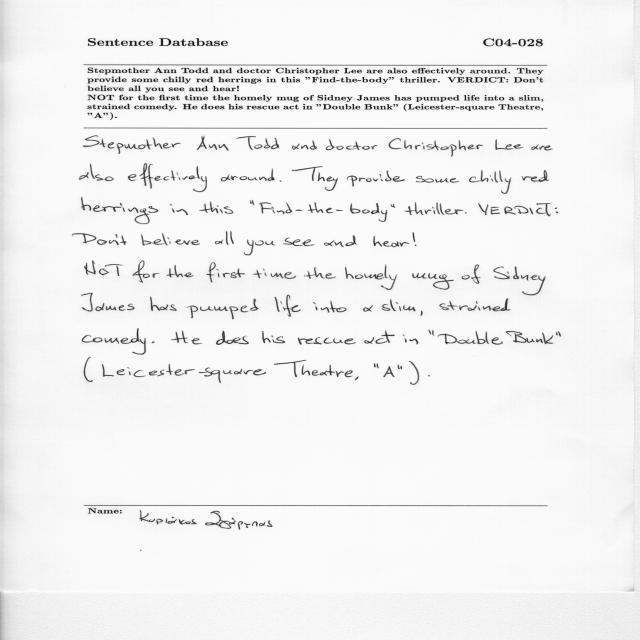word: (102, 364, 266, 383), (260, 202, 388, 222), (128, 164, 207, 192), (82, 197, 159, 224), (389, 138, 483, 157), (83, 136, 181, 154), (82, 329, 146, 355), (493, 267, 546, 296), (187, 299, 259, 319), (345, 264, 397, 290), (274, 360, 353, 377), (292, 166, 338, 191), (469, 170, 512, 194), (82, 293, 135, 312), (478, 203, 551, 216), (347, 171, 405, 187), (440, 299, 511, 312), (438, 331, 503, 345), (404, 202, 464, 215), (206, 263, 245, 283), (412, 273, 454, 290), (141, 233, 200, 245), (221, 169, 275, 182), (73, 233, 127, 245), (236, 136, 280, 150), (506, 331, 553, 344), (84, 261, 123, 276), (80, 164, 114, 181), (326, 139, 378, 150), (133, 261, 159, 283), (275, 295, 301, 317), (244, 240, 275, 256), (197, 136, 229, 151), (298, 337, 356, 345), (254, 268, 296, 279), (216, 331, 249, 345), (172, 331, 203, 345), (364, 330, 395, 344), (200, 202, 234, 214), (313, 301, 347, 313), (324, 235, 357, 247), (374, 236, 410, 247), (382, 299, 415, 311), (304, 267, 336, 279), (462, 264, 481, 284), (150, 297, 177, 311), (521, 170, 549, 182), (167, 265, 194, 277), (495, 139, 524, 150), (416, 176, 459, 183), (262, 331, 285, 343), (215, 231, 234, 245), (292, 140, 317, 150), (284, 238, 315, 246), (409, 361, 419, 385), (84, 357, 93, 382), (170, 204, 188, 215), (531, 144, 553, 151), (403, 335, 418, 345), (383, 366, 395, 377), (363, 305, 373, 312), (413, 232, 417, 246), (429, 330, 434, 336), (556, 332, 561, 337), (374, 364, 379, 369), (250, 200, 254, 205), (398, 365, 402, 370), (555, 208, 558, 214), (391, 204, 395, 208), (420, 311, 423, 316), (355, 377, 359, 380), (152, 342, 155, 344), (465, 212, 467, 214), (428, 375, 430, 377), (280, 181, 282, 182)
